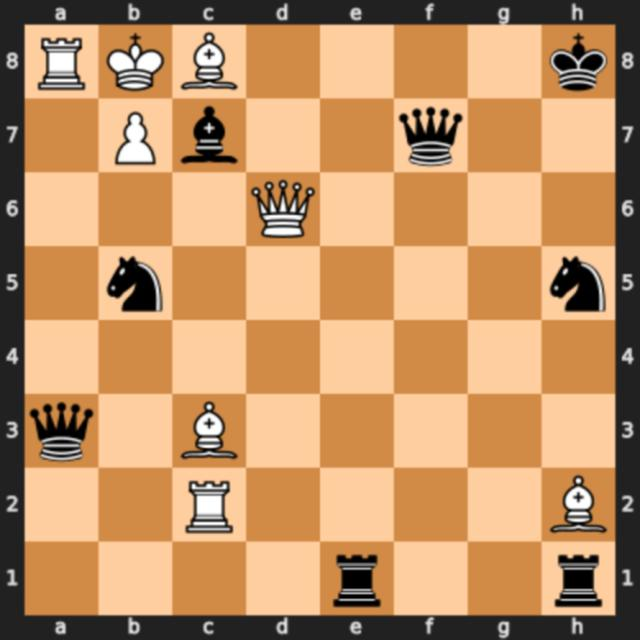Bishop_Black: (180, 102, 240, 166)
Bishop_white: (175, 31, 242, 91), (180, 403, 240, 460), (550, 473, 606, 533)
King_black: (550, 30, 609, 92)
King_white: (104, 30, 165, 93)
Knight_black: (106, 249, 167, 315), (548, 253, 608, 314)
Pawn_white: (113, 110, 159, 167)
Queen_black: (397, 105, 467, 168), (28, 402, 94, 462)
Queen_white: (248, 176, 314, 240)
Rook_black: (551, 550, 604, 609), (333, 550, 382, 608)
Rook_white: (181, 477, 236, 533), (36, 34, 88, 90)
